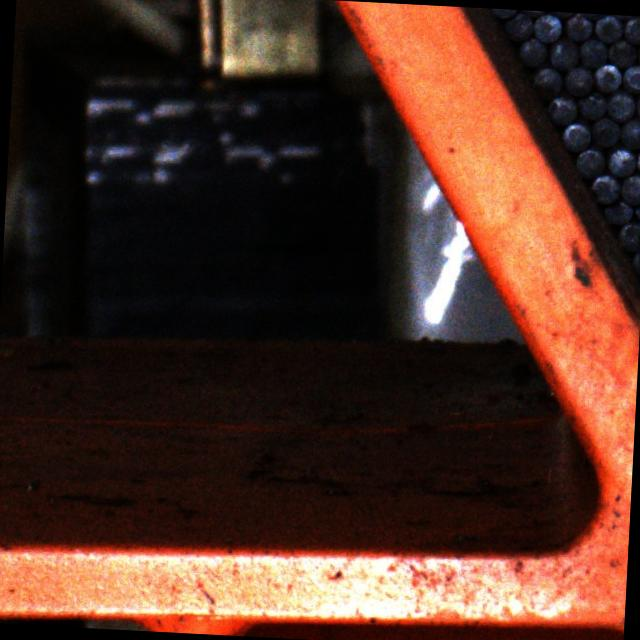tool: (548, 38, 578, 71), (590, 173, 621, 204), (531, 68, 562, 99), (604, 90, 634, 122), (562, 67, 592, 97), (590, 117, 619, 147), (502, 13, 532, 42), (605, 146, 634, 176), (578, 90, 607, 120), (548, 96, 578, 125), (561, 122, 590, 151), (576, 149, 605, 178), (519, 38, 548, 67), (594, 64, 622, 94), (532, 14, 560, 44), (578, 38, 606, 68), (608, 40, 636, 69), (594, 14, 623, 42), (564, 14, 592, 41), (604, 199, 634, 224), (617, 220, 640, 250), (620, 117, 640, 149), (620, 175, 640, 206), (622, 66, 640, 95), (623, 15, 640, 43), (489, 8, 518, 18), (546, 11, 576, 18), (632, 200, 640, 222), (576, 13, 605, 19), (520, 10, 548, 16), (635, 145, 640, 176), (635, 91, 640, 121)
